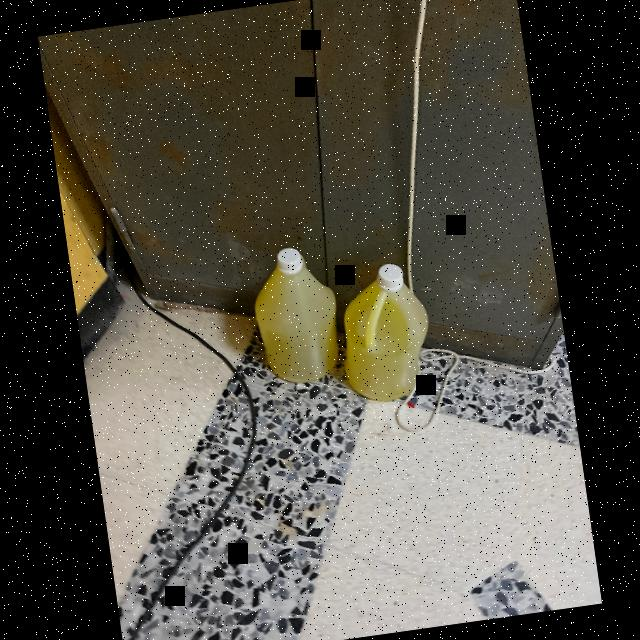chemical_plastic_gallon: (314, 246, 469, 408), (241, 220, 354, 400)
